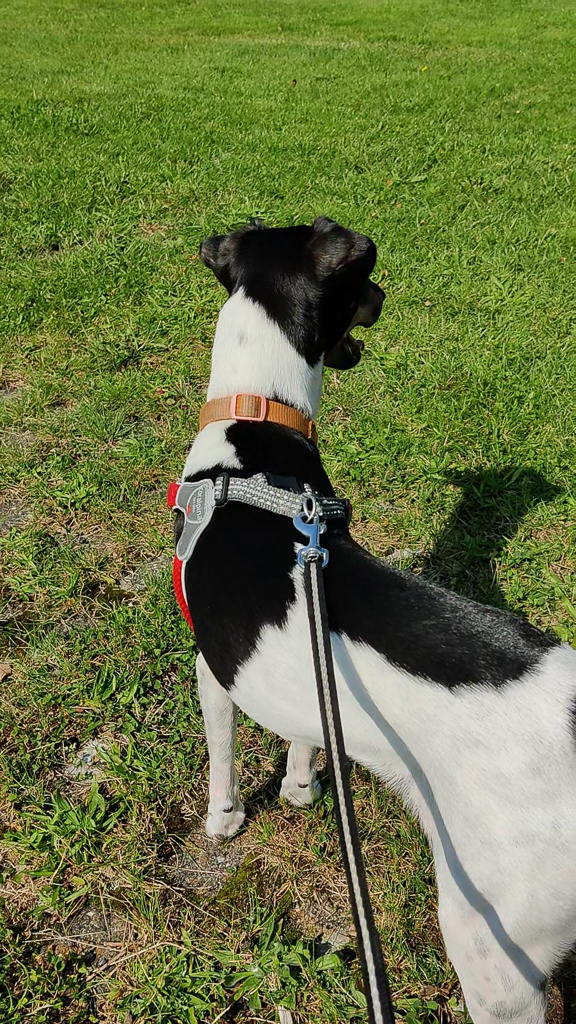Dog: (156, 205, 576, 1024)
